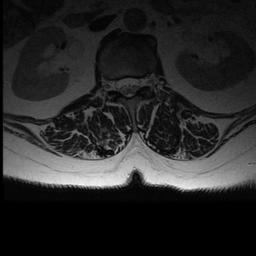CCS_normal: (124, 71, 132, 101)
LFS_normal: (140, 72, 147, 94)
LLS_normal: (132, 71, 139, 97)
RFS_normal: (107, 73, 116, 95)
RLS_normal: (116, 72, 124, 96)
